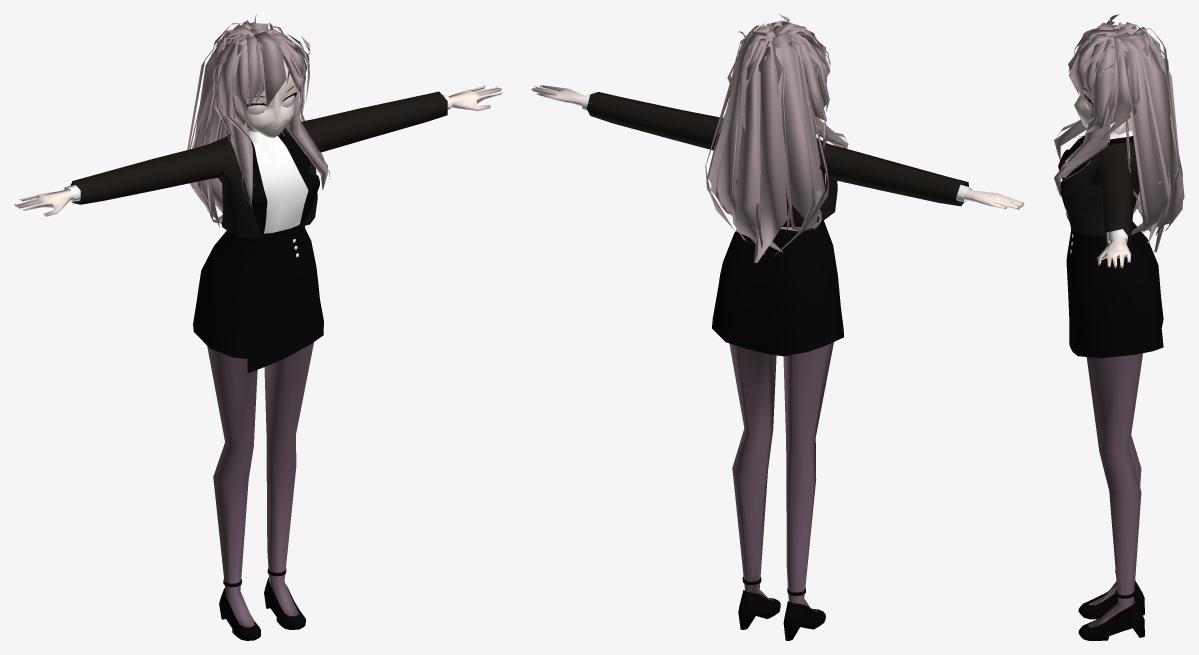
The model's file is OfficeWorker(Low Poly).fbx.
3 renders of one model, left to right at view 1: azimuth 30°, elevation 25°; view 2: azimuth 150°, elevation 25°; view 3: azimuth 270°, elevation 25°, orthographic.
Visible parts, largest first — view 1: Body, Cloth.Skirt, Hair, Cloth.Jacket, Cloth.Upper, Cloth.Jacket.detail, Shoes, Body.Face; view 2: Hair, Body, Cloth.Skirt, Cloth.Jacket, Shoes; view 3: Hair, Cloth.Skirt, Body, Cloth.Jacket, Shoes, Body.Face, Cloth.Jacket.detail, Cloth.Upper.
Boxes of the visible parts, x1,y1,x2,y2 form: Body: (14, 85, 502, 627); Cloth.Skirt: (193, 224, 323, 373); Hair: (187, 14, 330, 227); Cloth.Jacket: (70, 91, 447, 238); Cloth.Upper: (64, 95, 452, 233); Cloth.Jacket.detail: (251, 130, 319, 235); Shoes: (219, 568, 305, 640); Body.Face: (222, 59, 295, 137); Hair: (705, 14, 848, 262); Body: (531, 85, 1024, 611); Cloth.Skirt: (712, 220, 843, 356); Cloth.Jacket: (586, 92, 968, 224); Shoes: (738, 576, 825, 640); Hair: (1054, 14, 1184, 252); Cloth.Skirt: (1066, 221, 1163, 358); Body: (1086, 236, 1142, 627); Cloth.Jacket: (1059, 142, 1139, 246); Shoes: (1078, 570, 1144, 640); Body.Face: (1074, 66, 1132, 134); Cloth.Jacket.detail: (1058, 135, 1133, 219); Cloth.Upper: (1064, 130, 1132, 244).
Size of the model in its own units: 1.28 by 1.53 by 0.2988.
